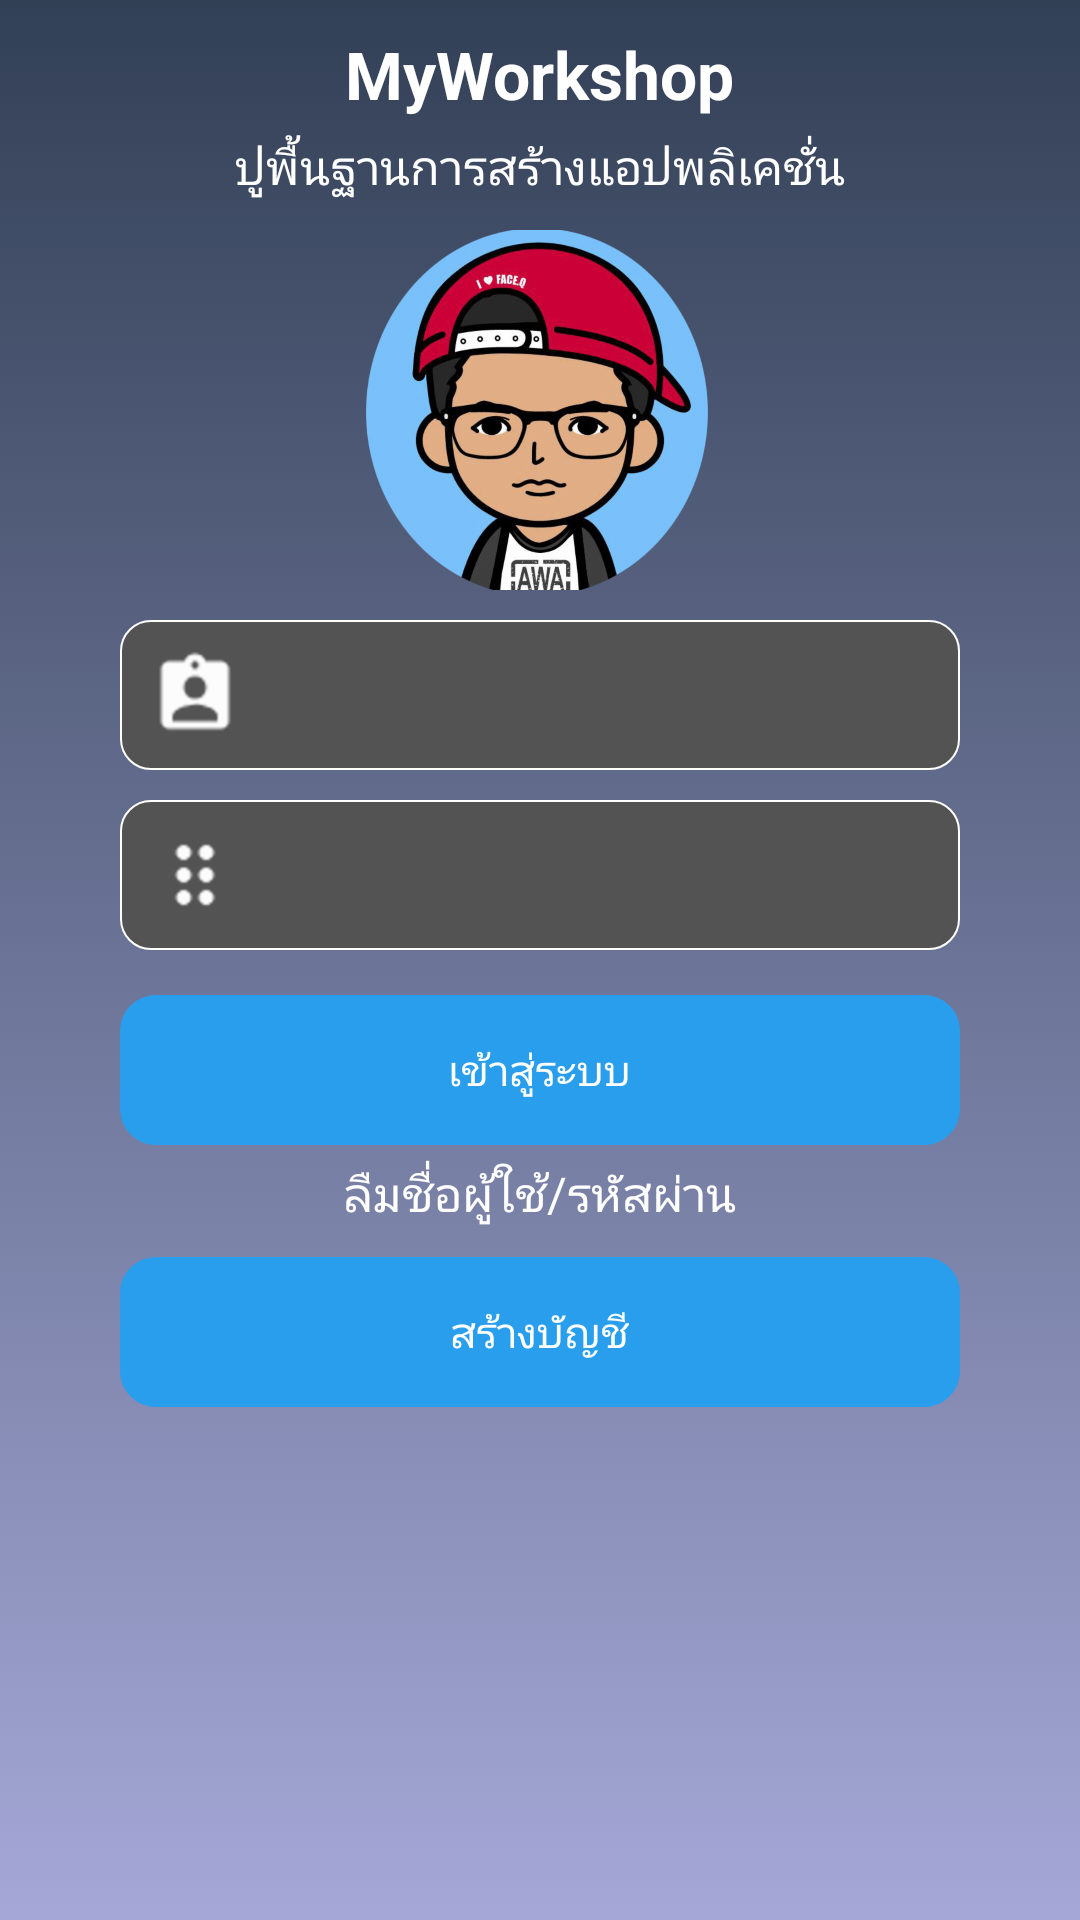

Named icons in this screenshot (1080px×1920px) and their bounding boxes, [x1,y1,x2,y2]:
assignment ind: [120,620,270,770]
drag indicator: [120,800,270,950]
profile: [360,230,720,590]
